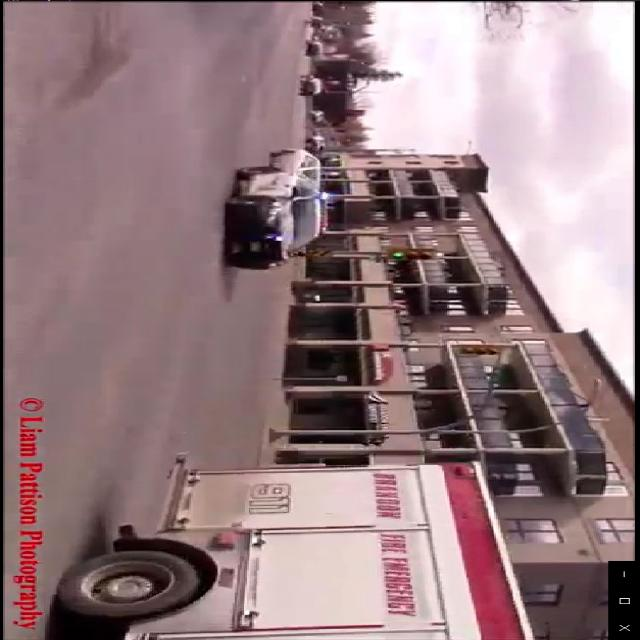emergency: (50, 446, 541, 640), (217, 166, 335, 270)
